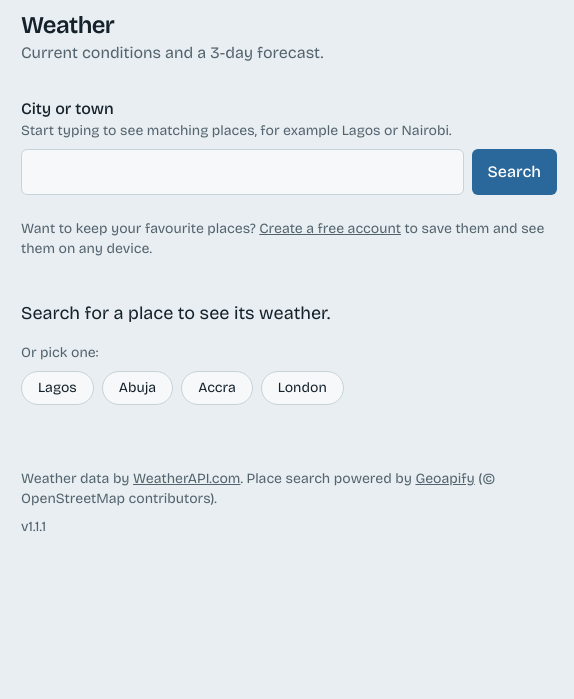
it: Home page with a single, unrelated match › loads the weather straight away when the single match is what was typed
Type "Lagos" into the dropdown. click: (242, 172)
box: [21,149,464,195]
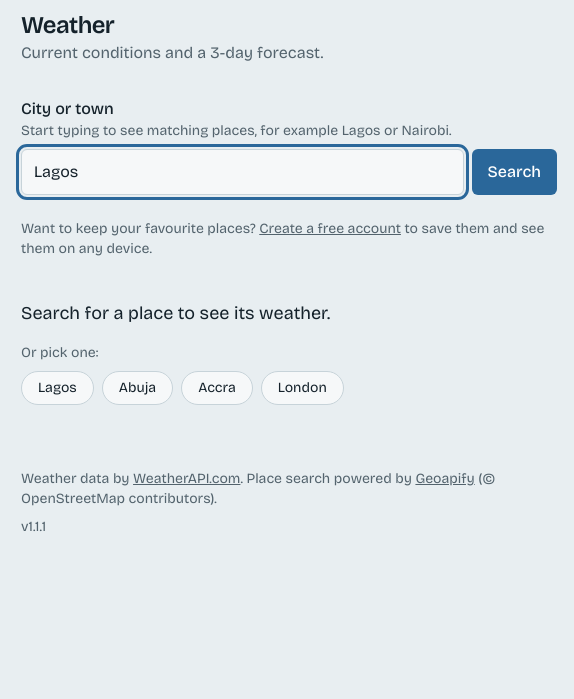
Click the button "Search". click: (514, 172)
box: [472,149,557,195]
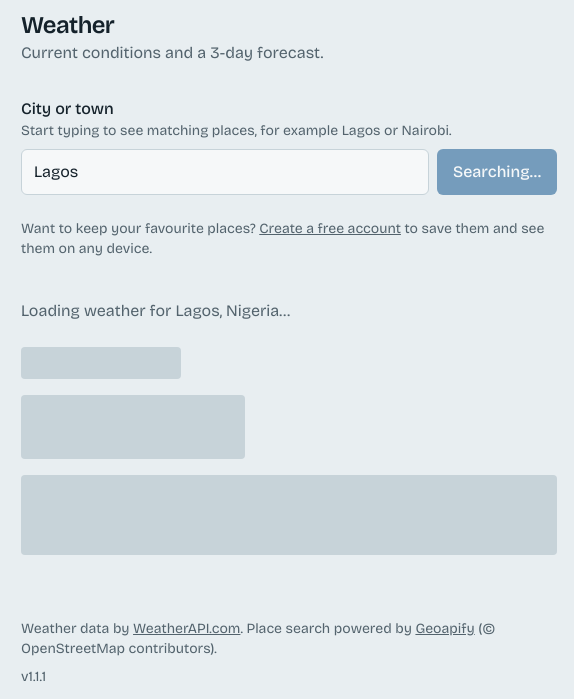
Now the text "Loading weather for Lagos, Nigeria…" is shown, box [21,301,290,320]
